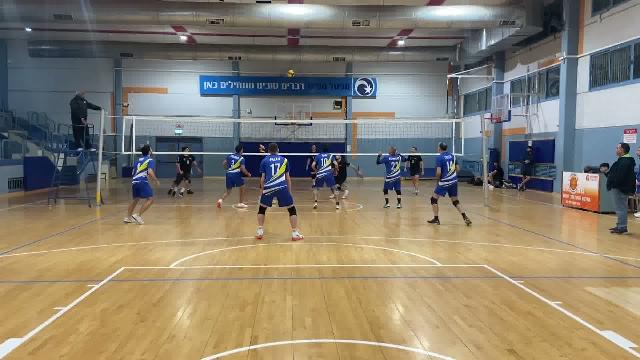ball: (285, 69, 298, 78)
